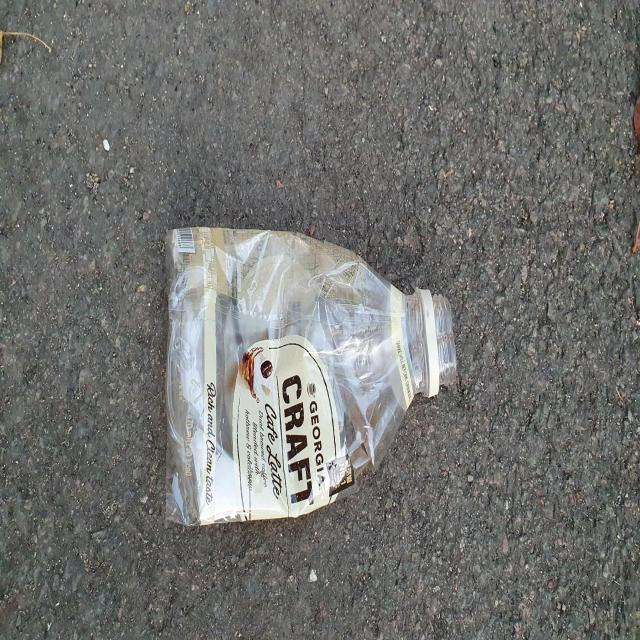plastic: (166, 226, 457, 525)
